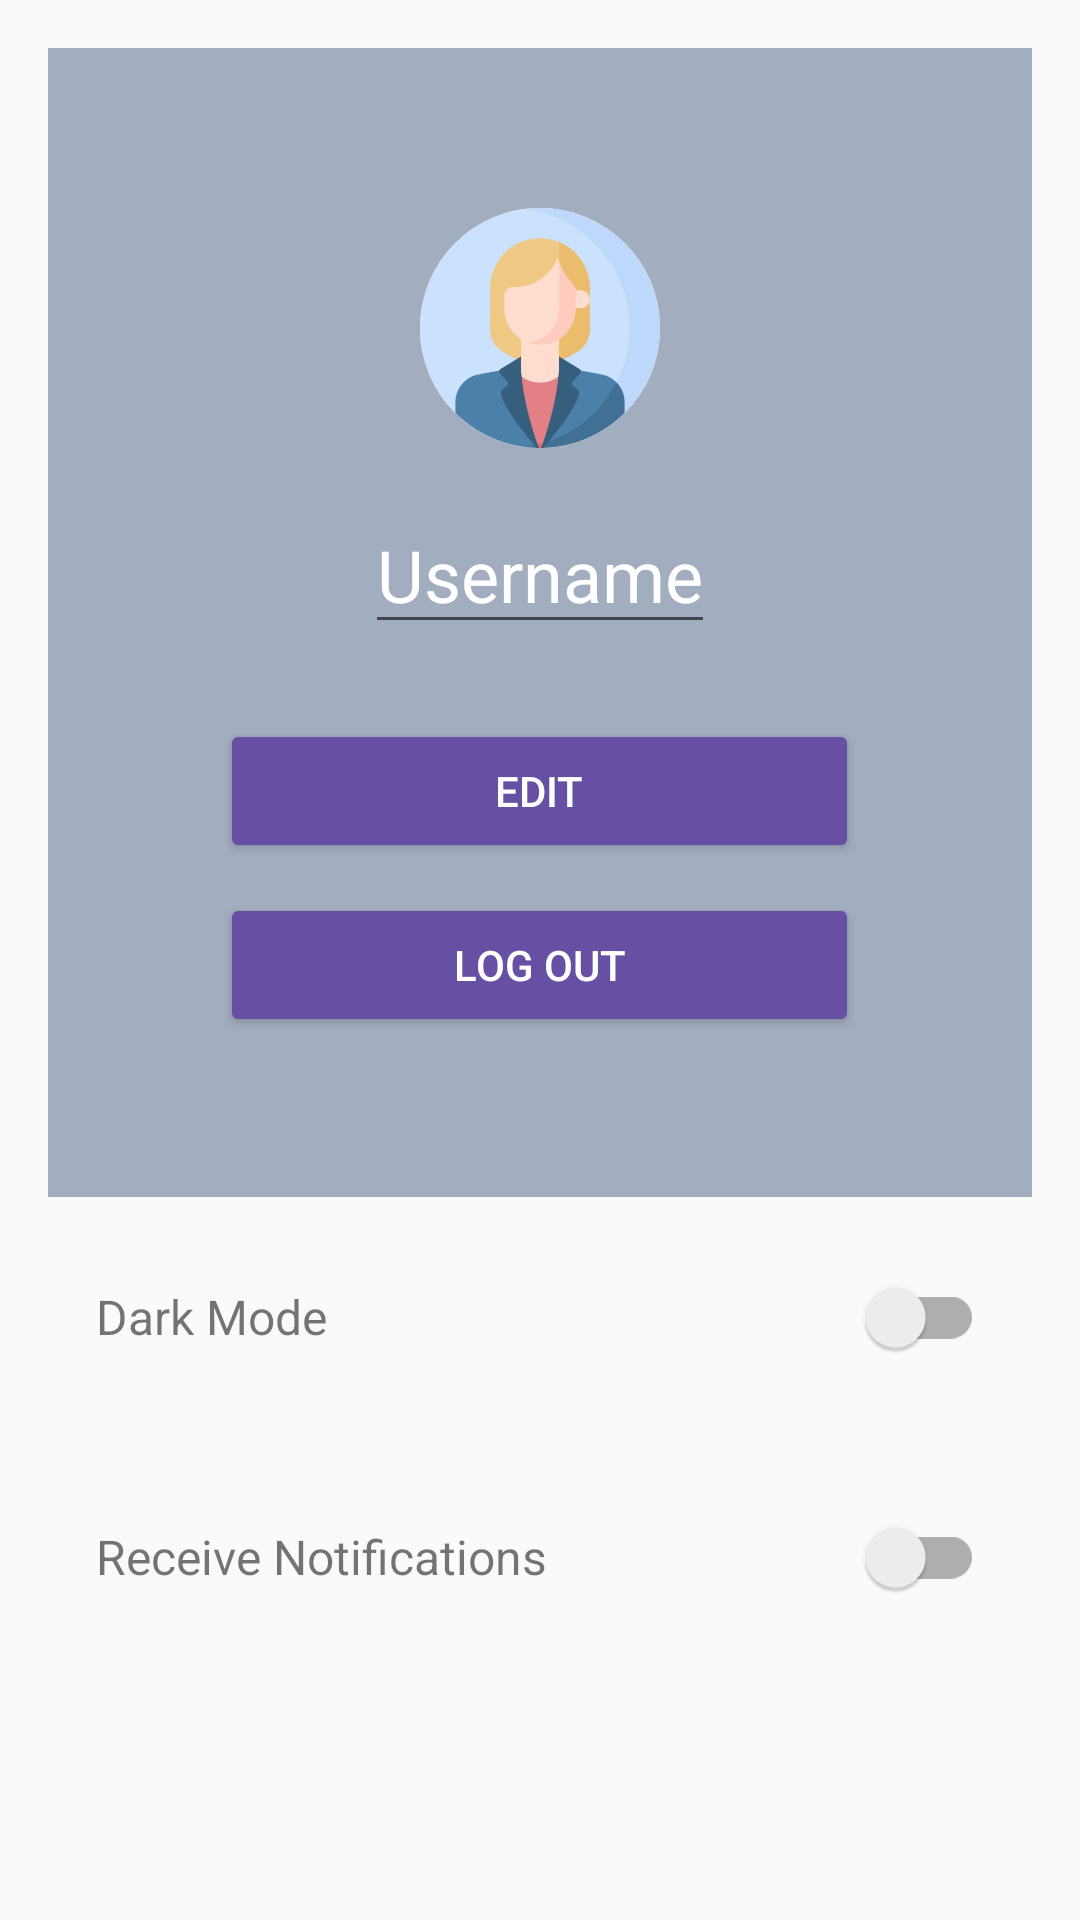

Screen size 1080*1920. Icon name, then its center in pixels as (x=x, y=y):
iconpic: (x=540, y=328)
